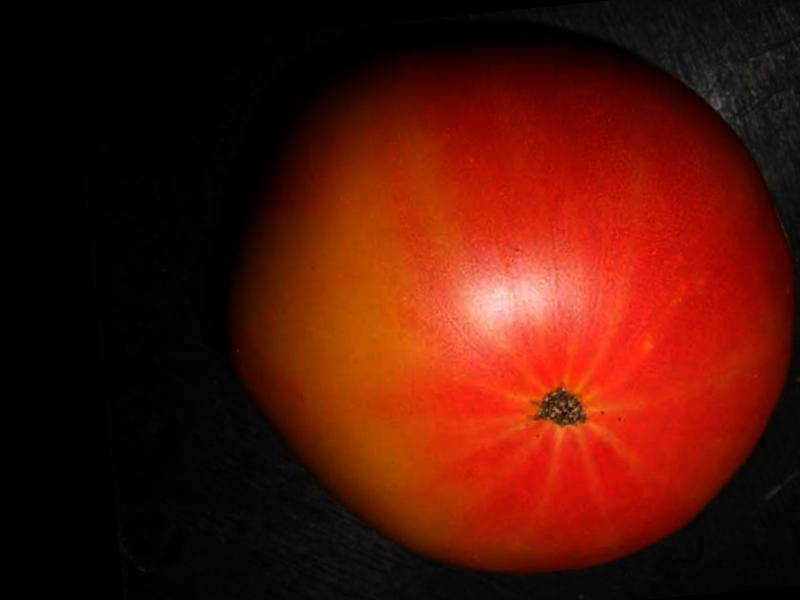Tomato: (208, 8, 800, 600)
